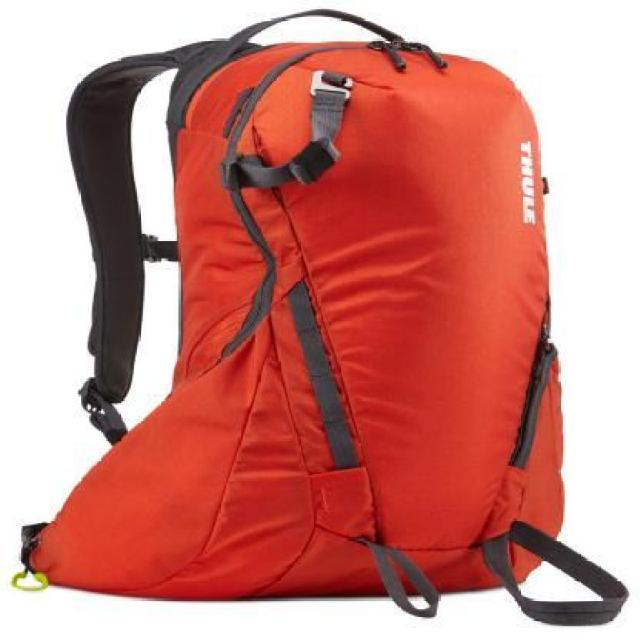backpack: (9, 3, 638, 629)
